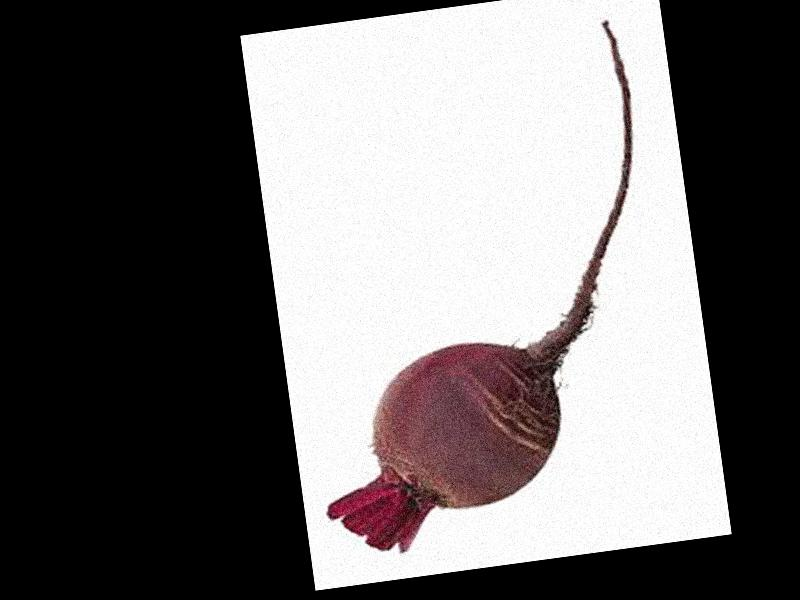Beet: (265, 14, 686, 559)
